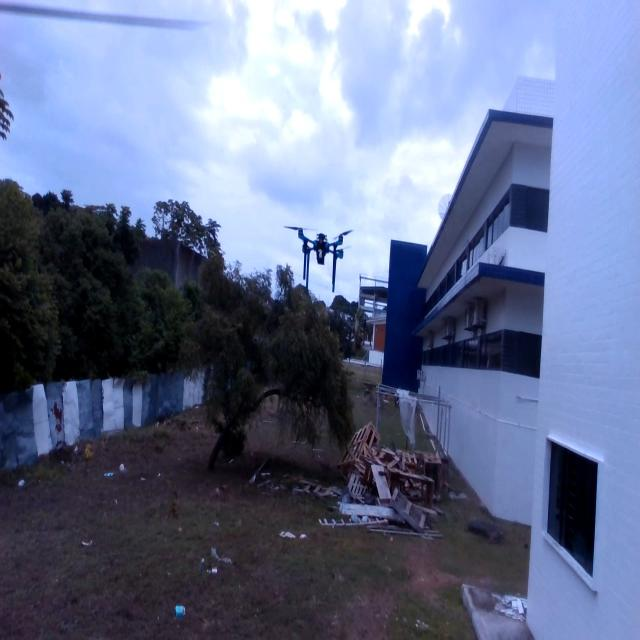-uav-: (282, 207, 352, 295)
